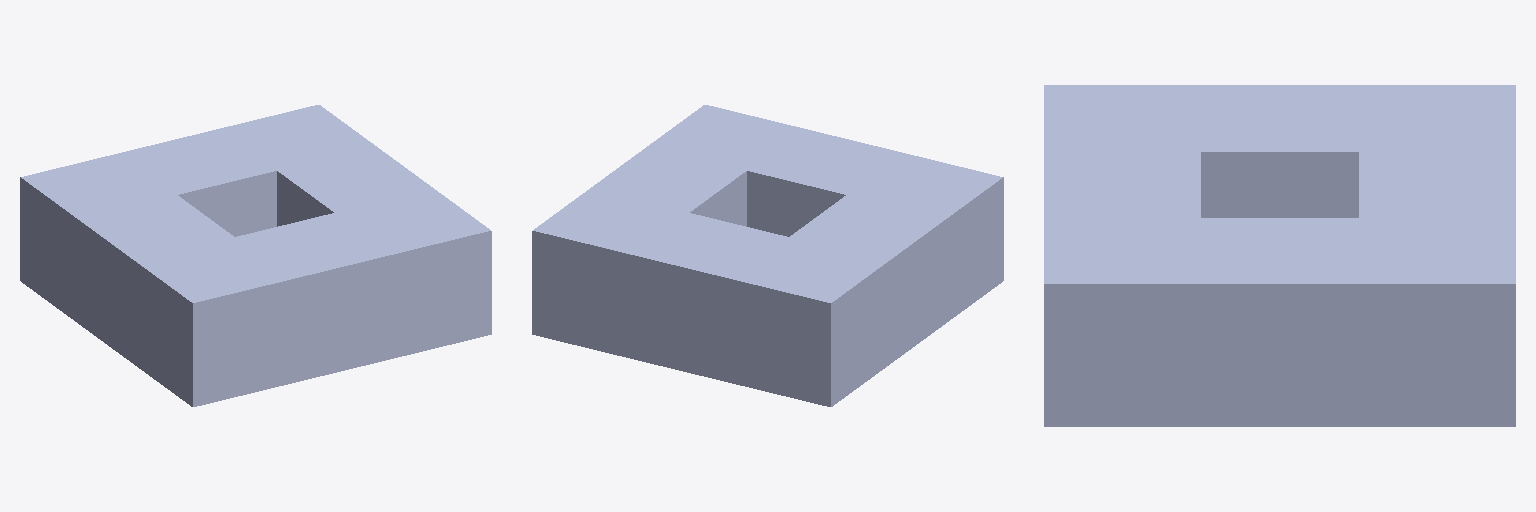
URDF robot description (hole.SLDPRT):
<?xml version="1.0" encoding="utf-8"?>
<!-- This URDF was automatically created by SolidWorks to URDF Exporter! Originally created by [author] ([email redacted]) 
     Commit Version: 1.5.1-0-g916b5db  Build Version: 1.5.7152.31018
     For more information, please see http://wiki.ros.org/sw_urdf_exporter -->
<robot
  name="hole.SLDPRT">
  <link
    name="hole1">
    <inertial>
      <origin
        xyz="-0.052 0.052 0.0"
        rpy="0 0 0" />
      <mass
        value="5.0" />
      <inertia
        ixx="0.003"
        ixy="0.0"
        ixz="0.0"
        iyy="0.003"
        iyz="0.0"
        izz="0.003" />
    </inertial>
    <visual>
      <origin
        xyz="-0.052 0.052 0"
        rpy="0 0 0" />
      <geometry>
        <box 
	  size="0.052 0.052 0.052" />
      </geometry>
      <material
        name="stainless">
        <color
          rgba="0.79216 0.81961 0.93333 1" />
      </material>
    </visual>
    <collision>
      <origin
        xyz="-0.052 0.052 0"
        rpy="0 0 0" />
      <geometry>
        <box 
	  size="0.052 0.052 0.052" />
      </geometry>
    </collision>
  <gazebo>
    <static>true</static>
  </gazebo>

  </link>
  
  <joint name="joint1" type="fixed">
    <origin xyz="0.0 0.0 0.0" rpy="0 0 0"/>
    <parent link="hole1"/>
    <child link="hole2"/>
  </joint>

  <link
    name="hole2">
    <inertial>
      <origin
        xyz="0.0 0.052 0.0"
        rpy="0 0 0" />
      <mass
        value="5.0" />
      <inertia
        ixx="0.003"
        ixy="0.0"
        ixz="0.0"
        iyy="0.003"
        iyz="0.0"
        izz="0.003" />
    </inertial>
    <visual>
      <origin
        xyz="0.0 0.052 0"
        rpy="0 0 0" />
      <geometry>
        <box 
	  size="0.052 0.052 0.052" />
      </geometry>
      <material
        name="stainless">
        <color
          rgba="0.79216 0.81961 0.93333 1" />
      </material>
    </visual>
    <collision>
      <origin
        xyz="0.0 0.052 0"
        rpy="0 0 0" />
      <geometry>
        <box 
	  size="0.052 0.052 0.052" />
      </geometry>
    </collision>
  <gazebo>
    <static>true</static>
  </gazebo>
  </link>

  <joint name="joint2" type="fixed">
    <origin xyz="0.0 0.0 0.0" rpy="0 0 0"/>
    <parent link="hole2"/>
    <child link="hole3"/>
  </joint>

  <link
    name="hole3">
    <inertial>
      <origin
        xyz="0.052 0.052 0.0"
        rpy="0 0 0" />
      <mass
        value="5.0" />
      <inertia
        ixx="0.003"
        ixy="0.0"
        ixz="0.0"
        iyy="0.003"
        iyz="0.0"
        izz="0.003" />
    </inertial>
    <visual>
      <origin
        xyz="0.052 0.052 0"
        rpy="0 0 0" />
      <geometry>
        <box 
	  size="0.052 0.052 0.052" />
      </geometry>
      <material
        name="stainless">
        <color
          rgba="0.79216 0.81961 0.93333 1" />
      </material>
    </visual>
    <collision>
      <origin
        xyz="0.052 0.052 0"
        rpy="0 0 0" />
      <geometry>
        <box 
	  size="0.052 0.052 0.052" />
      </geometry>
    </collision>
  <gazebo>
    <static>true</static>
  </gazebo>
  </link>

  <joint name="joint3" type="fixed">
    <origin xyz="0.0 0.0 0.0" rpy="0 0 0"/>
    <parent link="hole3"/>
    <child link="hole4"/>
  </joint>

  <link
    name="hole4">
    <inertial>
      <origin
        xyz="0.052 0.0 0.0"
        rpy="0 0 0" />
      <mass
        value="5.0" />
      <inertia
        ixx="0.003"
        ixy="0.0"
        ixz="0.0"
        iyy="0.003"
        iyz="0.0"
        izz="0.003" />
    </inertial>
    <visual>
      <origin
        xyz="0.052 0.0 0"
        rpy="0 0 0" />
      <geometry>
        <box 
	  size="0.052 0.052 0.052" />
      </geometry>
      <material
        name="stainless">
        <color
          rgba="0.79216 0.81961 0.93333 1" />
      </material>
    </visual>
    <collision>
      <origin
        xyz="0.052 0.0 0"
        rpy="0 0 0" />
      <geometry>
        <box 
	  size="0.052 0.052 0.052" />
      </geometry>
    </collision>
  <gazebo>
    <static>true</static>
  </gazebo>
  </link>

  <joint name="joint4" type="fixed">
    <origin xyz="0.0 0.0 0.0" rpy="0 0 0"/>
    <parent link="hole4"/>
    <child link="hole5"/>
  </joint>

  <link
    name="hole5">
    <inertial>
      <origin
        xyz="0.052 -0.052 0.0"
        rpy="0 0 0" />
      <mass
        value="5.0" />
      <inertia
        ixx="0.003"
        ixy="0.0"
        ixz="0.0"
        iyy="0.003"
        iyz="0.0"
        izz="0.003" />
    </inertial>
    <visual>
      <origin
        xyz="0.052 -0.052 0"
        rpy="0 0 0" />
      <geometry>
        <box 
	  size="0.052 0.052 0.052" />
      </geometry>
      <material
        name="stainless">
        <color
          rgba="0.79216 0.81961 0.93333 1" />
      </material>
    </visual>
    <collision>
      <origin
        xyz="0.052 -0.052 0"
        rpy="0 0 0" />
      <geometry>
        <box 
	  size="0.052 0.052 0.052" />
      </geometry>
    </collision>
  <gazebo>
    <static>true</static>
  </gazebo>
  </link>
  <joint name="joint5" type="fixed">
    <origin xyz="0.0  0.0 0.0" rpy="0 0 0"/>
    <parent link="hole5"/>
    <child link="hole6"/>
  </joint>

  <link
    name="hole6">
    <inertial>
      <origin
        xyz="0.0 -0.052 0.0"
        rpy="0 0 0" />
      <mass
        value="5.0" />
      <inertia
        ixx="0.003"
        ixy="0.0"
        ixz="0.0"
        iyy="0.003"
        iyz="0.0"
        izz="0.003" />
    </inertial>
    <visual>
      <origin
        xyz="0.0 -0.052 0"
        rpy="0 0 0" />
      <geometry>
        <box 
	  size="0.052 0.052 0.052" />
      </geometry>
      <material
        name="stainless">
        <color
          rgba="0.79216 0.81961 0.93333 1" />
      </material>
    </visual>
    <collision>
      <origin
        xyz="0.0 -0.052 0"
        rpy="0 0 0" />
      <geometry>
        <box 
	  size="0.052 0.052 0.052" />
      </geometry>
    </collision>
  <gazebo>
    <static>true</static>
  </gazebo>
  </link>

  <joint name="joint6" type="fixed">
    <origin xyz="0.0  0.0 0.0" rpy="0 0 0"/>
    <parent link="hole6"/>
    <child link="hole7"/>
  </joint>

  <link
    name="hole7">
    <inertial>
      <origin
        xyz="-0.052 -0.052 0.0"
        rpy="0 0 0" />
      <mass
        value="5.0" />
      <inertia
        ixx="0.003"
        ixy="0.0"
        ixz="0.0"
        iyy="0.003"
        iyz="0.0"
        izz="0.003" />
    </inertial>
    <visual>
      <origin
        xyz="-0.052 -0.052 0"
        rpy="0 0 0" />
      <geometry>
        <box 
	  size="0.052 0.052 0.052" />
      </geometry>
      <material
        name="stainless">
        <color
          rgba="0.79216 0.81961 0.93333 1" />
      </material>
    </visual>
    <collision>
      <origin
        xyz="-0.052 -0.052 0"
        rpy="0 0 0" />
      <geometry>
        <box 
	  size="0.052 0.052 0.052" />
      </geometry>
    </collision>
  <gazebo>
    <static>true</static>
  </gazebo>
  </link>

  <joint name="joint7" type="fixed">
    <origin xyz="0.0  0.0 0.0" rpy="0 0 0"/>
    <parent link="hole7"/>
    <child link="hole8"/>
  </joint>

  <link
    name="hole8">
    <inertial>
      <origin
        xyz="-0.052 0.0 0.0"
        rpy="0 0 0" />
      <mass
        value="5.0" />
      <inertia
        ixx="0.003"
        ixy="0.0"
        ixz="0.0"
        iyy="0.003"
        iyz="0.0"
        izz="0.003" />
    </inertial>
    <visual>
      <origin
        xyz="-0.052 0.0 0"
        rpy="0 0 0" />
      <geometry>
        <box 
	  size="0.052 0.052 0.052" />
      </geometry>
      <material
        name="stainless">
        <color
          rgba="0.79216 0.81961 0.93333 1" />
      </material>
    </visual>
    <collision>
      <origin
        xyz="-0.052 0.0 0"
        rpy="0 0 0" />
      <geometry>
        <box 
	  size="0.052 0.052 0.052" />
      </geometry>
    </collision>
  <gazebo>
    <static>true</static>
  </gazebo>
  </link>

</robot>

--- What the picture shows (computed from the rendered views, not written in the file) ---
Views: 3 orthographic renders of the robot side by side, from view 1: azimuth 30°, elevation 25°; view 2: azimuth 150°, elevation 25°; view 3: azimuth 270°, elevation 25°.
Robot: hole.SLDPRT — 8 links, 7 joints (7 fixed); root link hole1; default pose: all joints at 0.
Visible links, largest first — view 1: hole7, hole6, hole5, hole1, hole8, hole2, hole4, hole3; view 2: hole1, hole2, hole3, hole7, hole8, hole6, hole4, hole5; view 3: hole4, hole3, hole5, hole8, hole1, hole7, hole2, hole6.
Boxes of the visible links, bbox=[...] form: hole7: bbox=[135, 237, 291, 406]; hole6: bbox=[236, 213, 391, 382]; hole5: bbox=[335, 189, 491, 358]; hole1: bbox=[20, 153, 176, 322]; hole8: bbox=[78, 195, 233, 364]; hole2: bbox=[121, 129, 276, 236]; hole4: bbox=[277, 146, 433, 226]; hole3: bbox=[220, 105, 375, 170]; hole1: bbox=[732, 237, 888, 406]; hole2: bbox=[632, 213, 787, 382]; hole3: bbox=[532, 189, 688, 358]; hole7: bbox=[847, 153, 1003, 322]; hole8: bbox=[790, 195, 945, 364]; hole6: bbox=[747, 129, 902, 236]; hole4: bbox=[590, 146, 746, 226]; hole5: bbox=[648, 105, 803, 170]; hole4: bbox=[1201, 218, 1358, 426]; hole3: bbox=[1359, 218, 1515, 426]; hole5: bbox=[1044, 218, 1200, 426]; hole8: bbox=[1201, 85, 1358, 217]; hole1: bbox=[1359, 85, 1515, 151]; hole7: bbox=[1044, 85, 1200, 151]; hole2: bbox=[1359, 152, 1515, 217]; hole6: bbox=[1044, 152, 1200, 217].
Bounding box of the posed robot: 0.156 × 0.156 × 0.052 m (x, y, z).
Geometry: primitives only (box / cylinder / sphere), no mesh files.